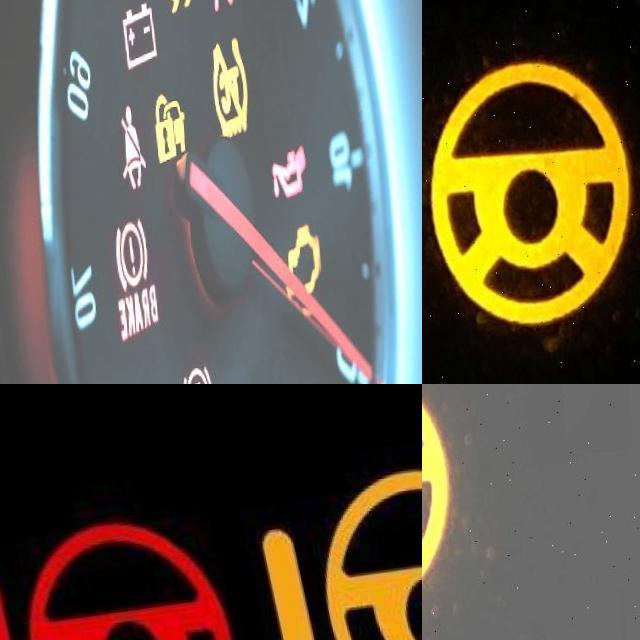Electronic Power Steering: (255, 469, 422, 640), (0, 519, 234, 640)
Electronic Power Steering Warning: (422, 57, 632, 339)
Seat Belt: (112, 112, 144, 194)
